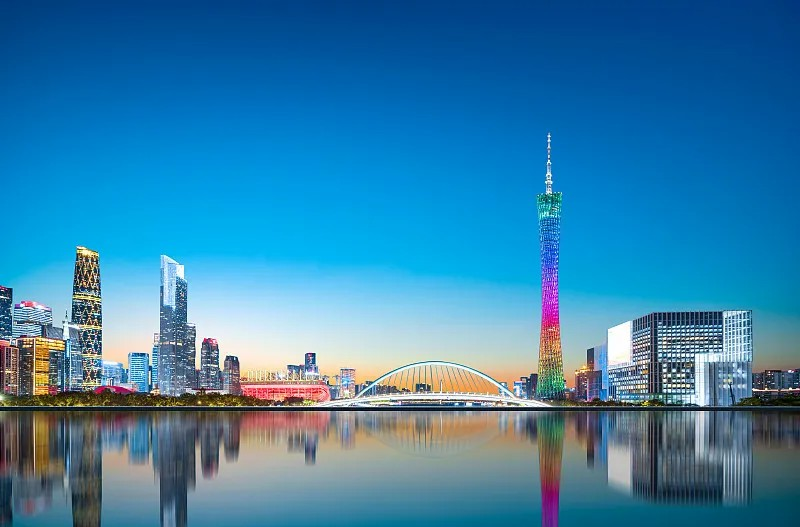Canton: (537, 131, 567, 401)
